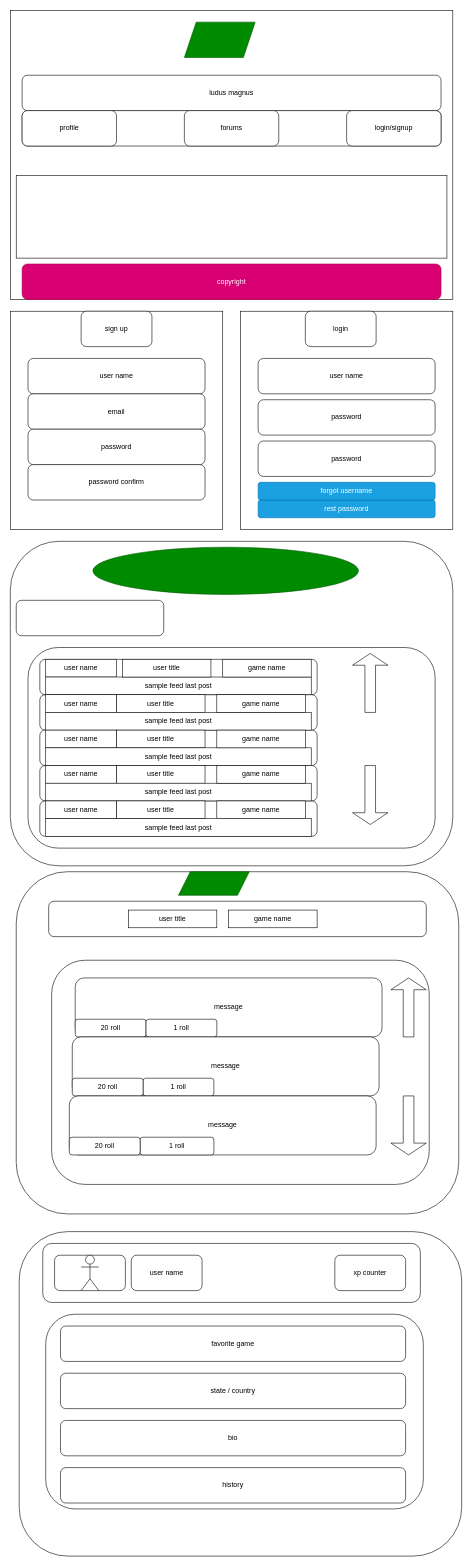
Image size: 472x1566. Some labels were removed from this diagram. Each missing label, with the centre of its shape:
"Actor" goes at point 90,1273.
"forums menu" goes at point 225,570.
"hot topics 3-5" goes at point 231,216.
"message modle" goes at point 213,883.
"search" goes at point 90,618.
